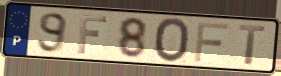8: (117, 16, 150, 60)
9: (36, 11, 70, 54)
F: (192, 20, 231, 64), (75, 13, 109, 55)
O: (153, 16, 192, 65)
T: (237, 24, 268, 67)
